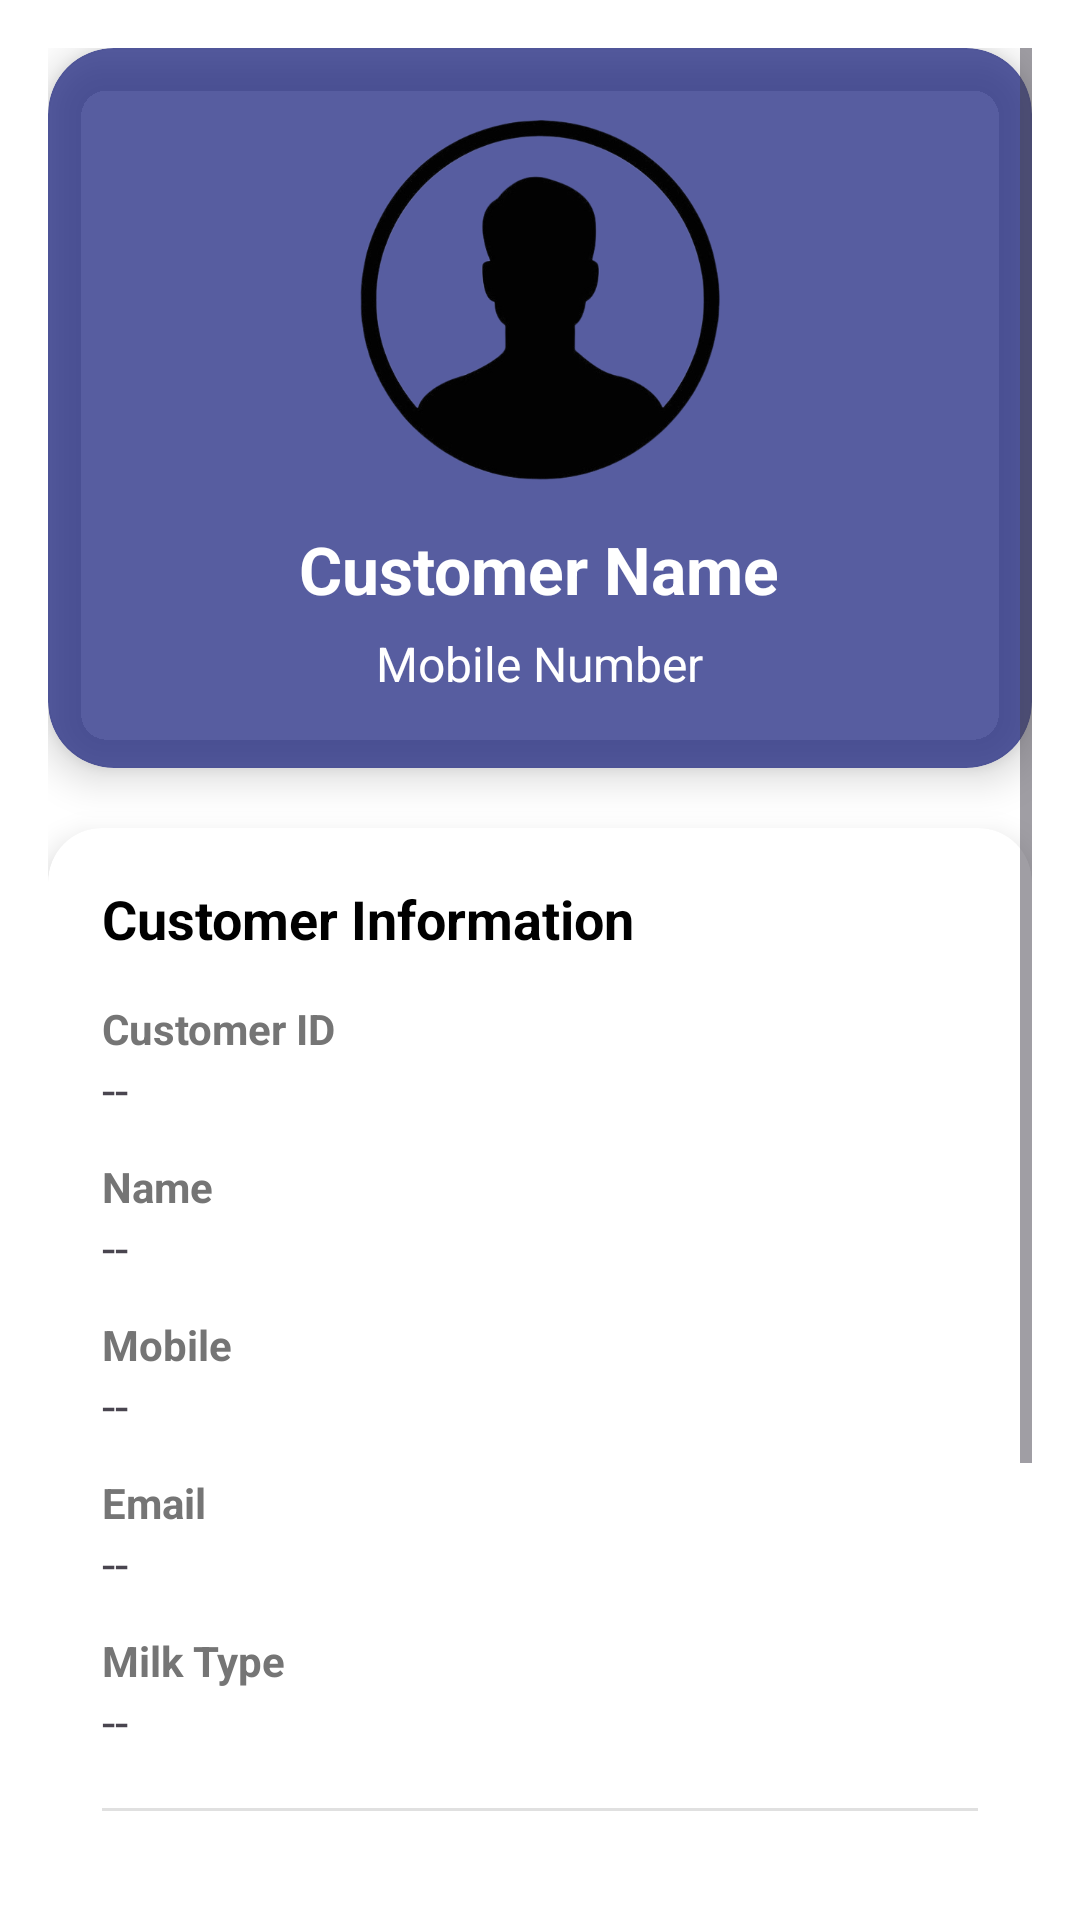

Named icons in this screenshot (1080 x 1920) and their bounding boxes, (x1, y1, x2, y2):
profile: (360, 120, 720, 480)
